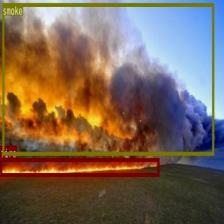fire: (0, 158, 159, 176)
smoke: (2, 2, 214, 154)
